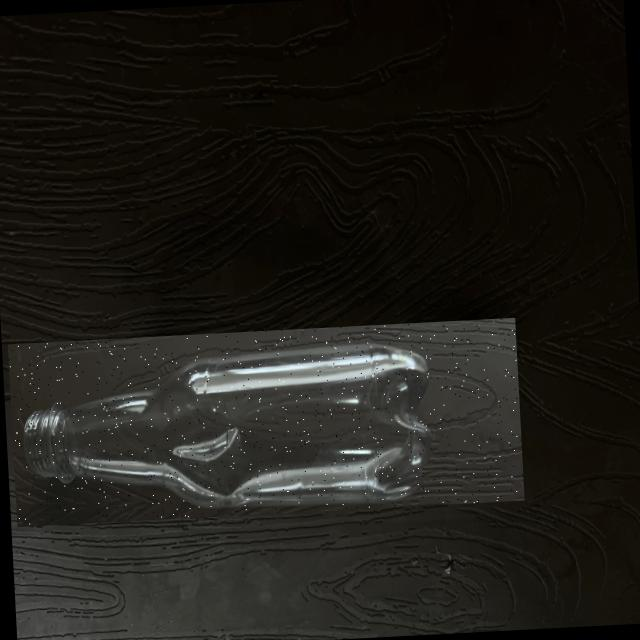PET_ClearBottle: (7, 318, 524, 527)
